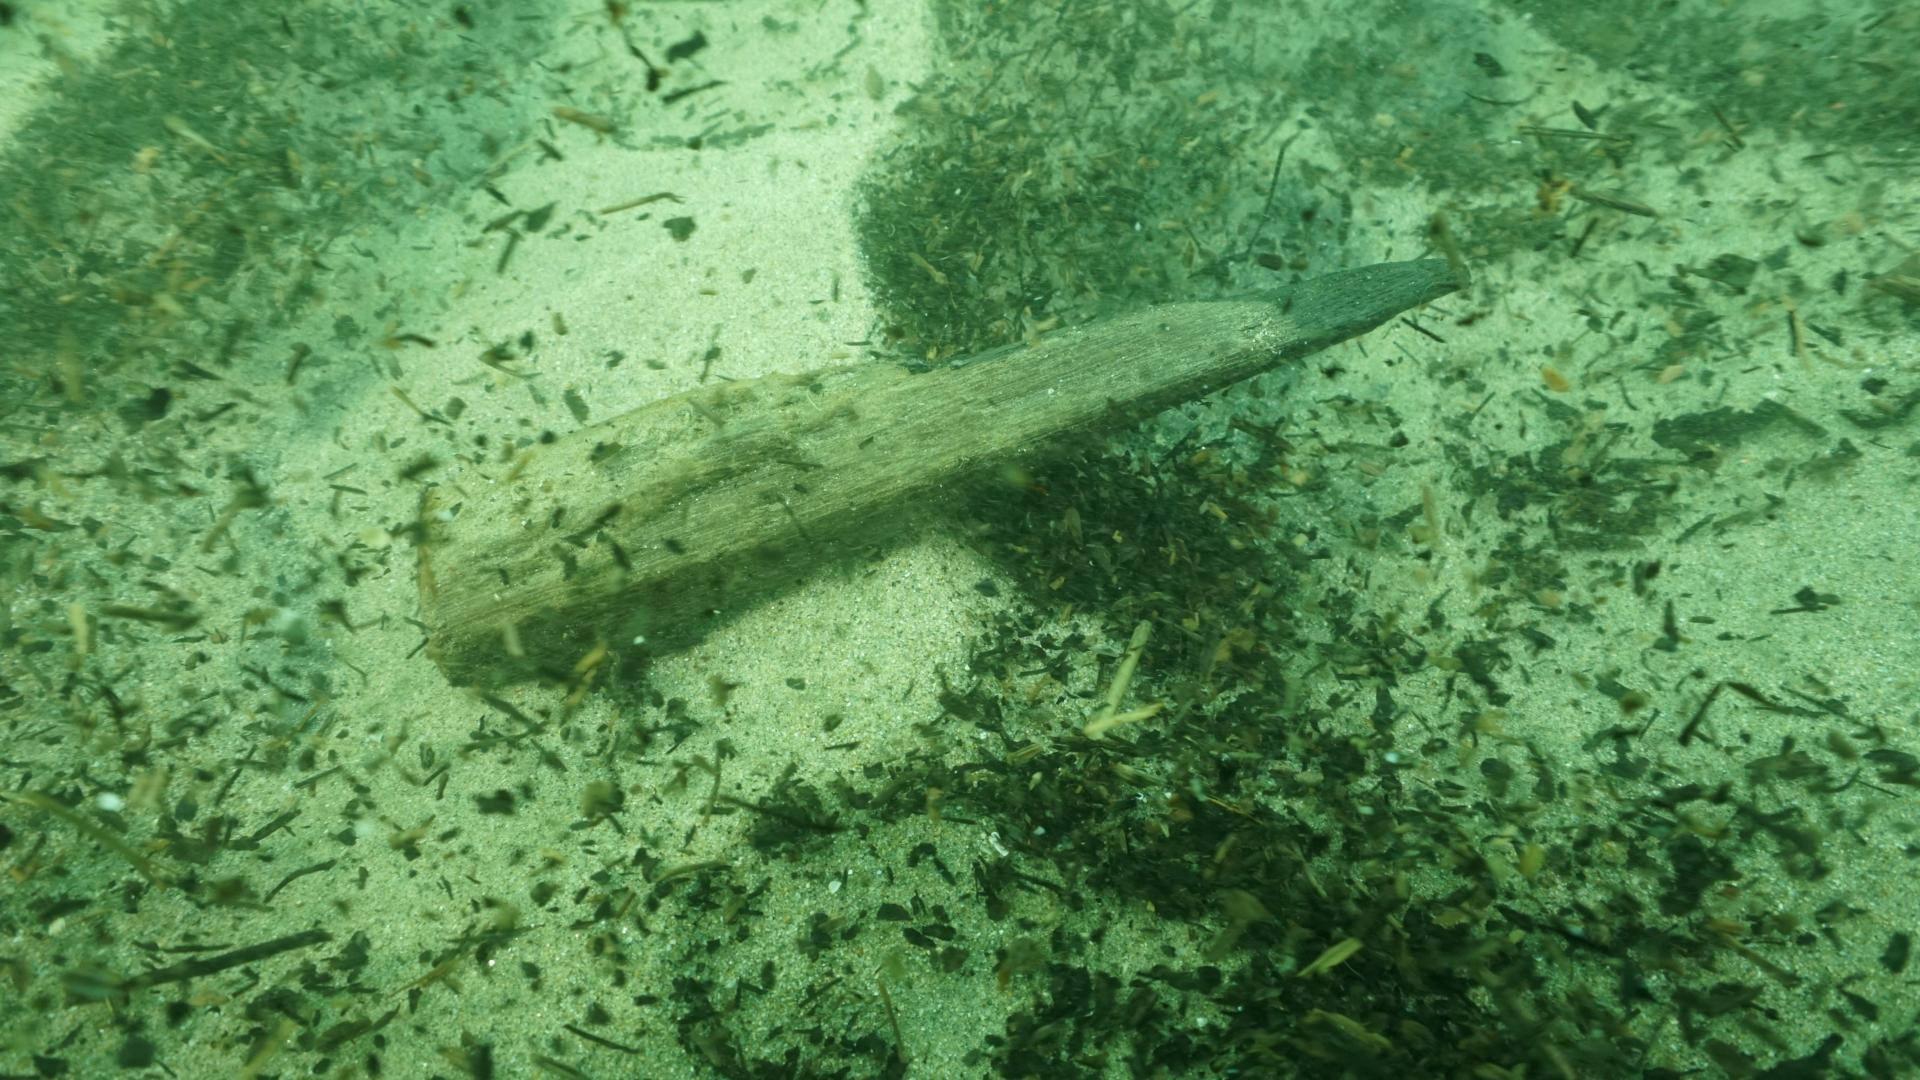wood: (411, 255, 1473, 691)
